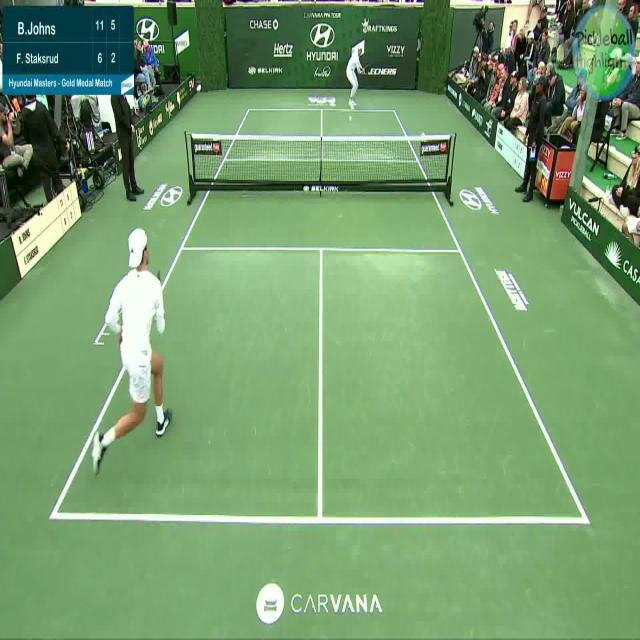ball: (347, 110, 358, 126)
